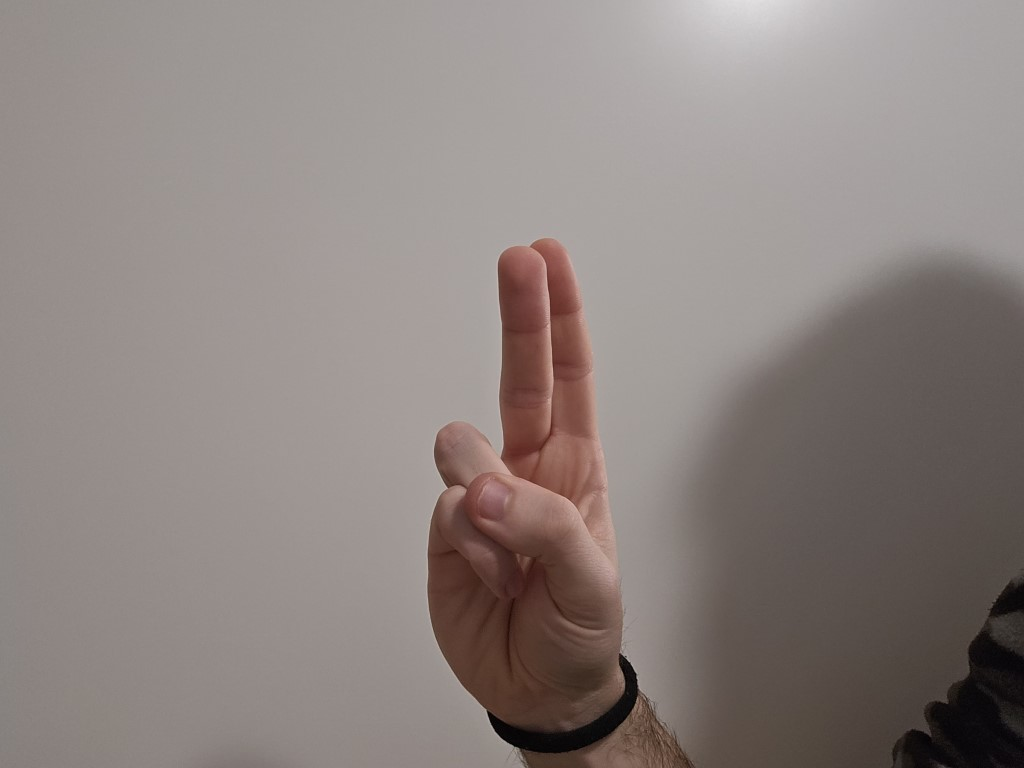r: (363, 239, 648, 699)
